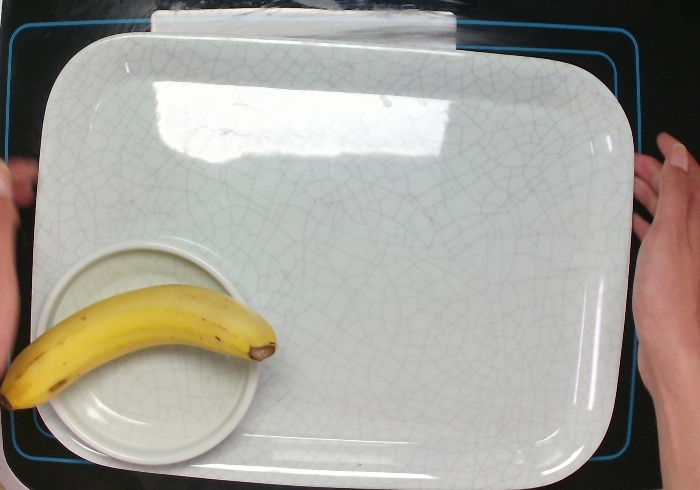JYsf-Xiao_Yuan_Pan: (33, 237, 263, 467)
